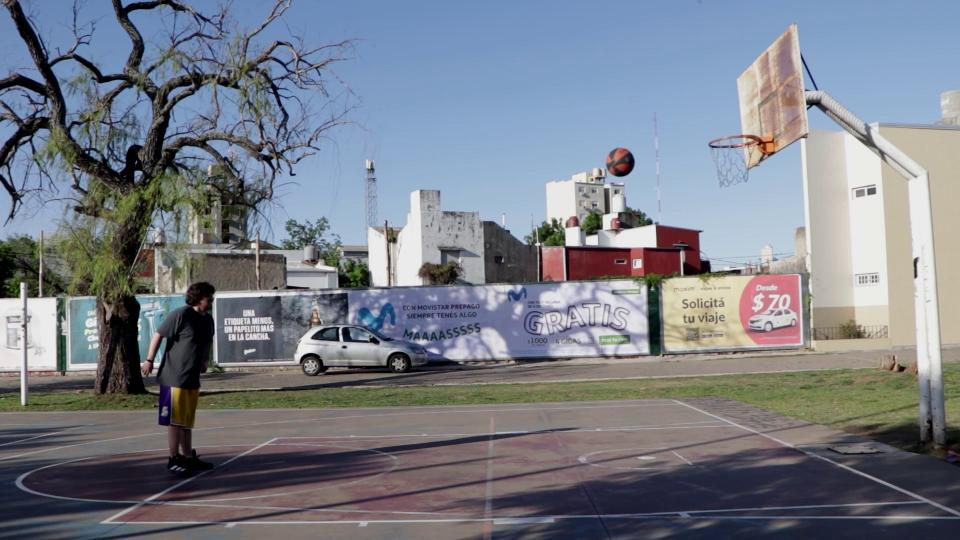hoop: (705, 134, 781, 157)
